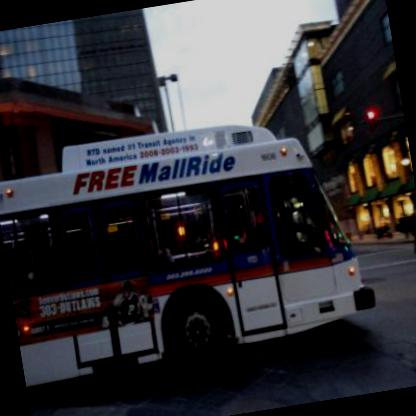bus: (0, 102, 383, 390)
